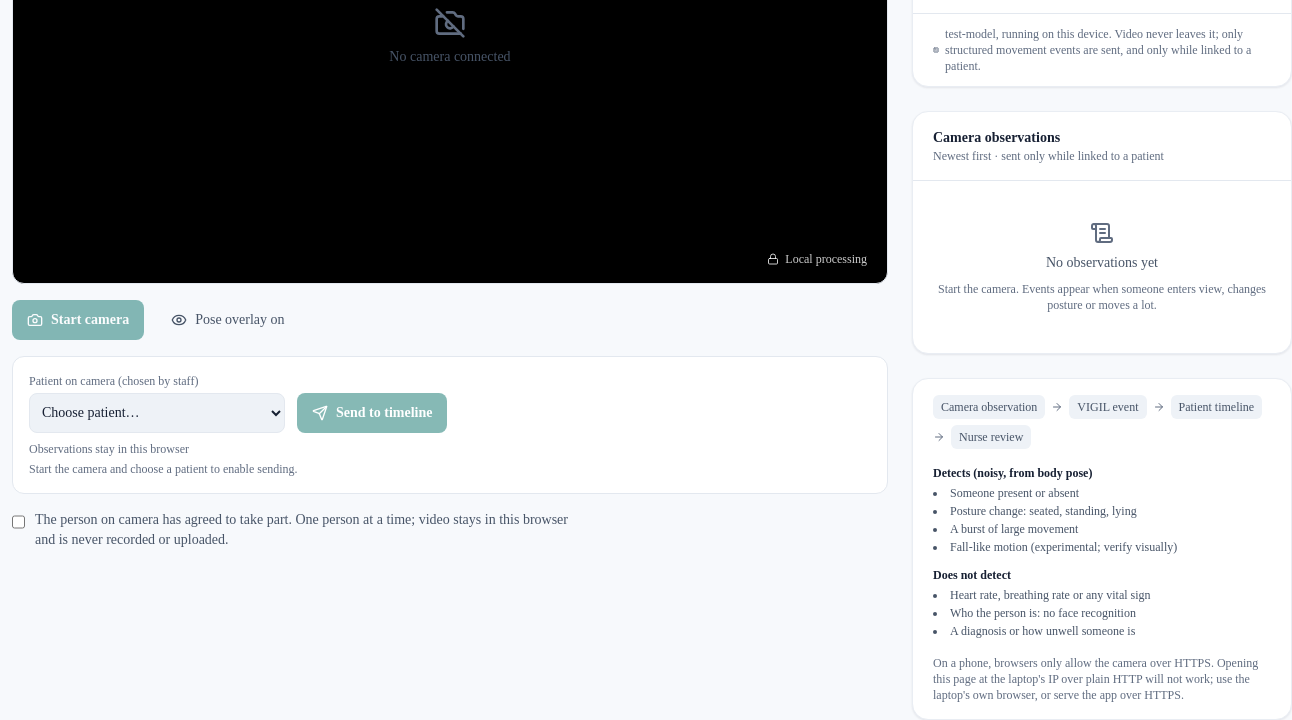
VIGIL Vision camera lifecycle › never requests the camera until consent is given and Start is pressed
(page scrolled)
Expected: the button "Start camera" is disabled, [12, 300, 144, 340]
Expected: the text "No camera connected" is shown, [389, 47, 511, 67]
Click the checkbox at (18, 522), box [12, 514, 25, 530]
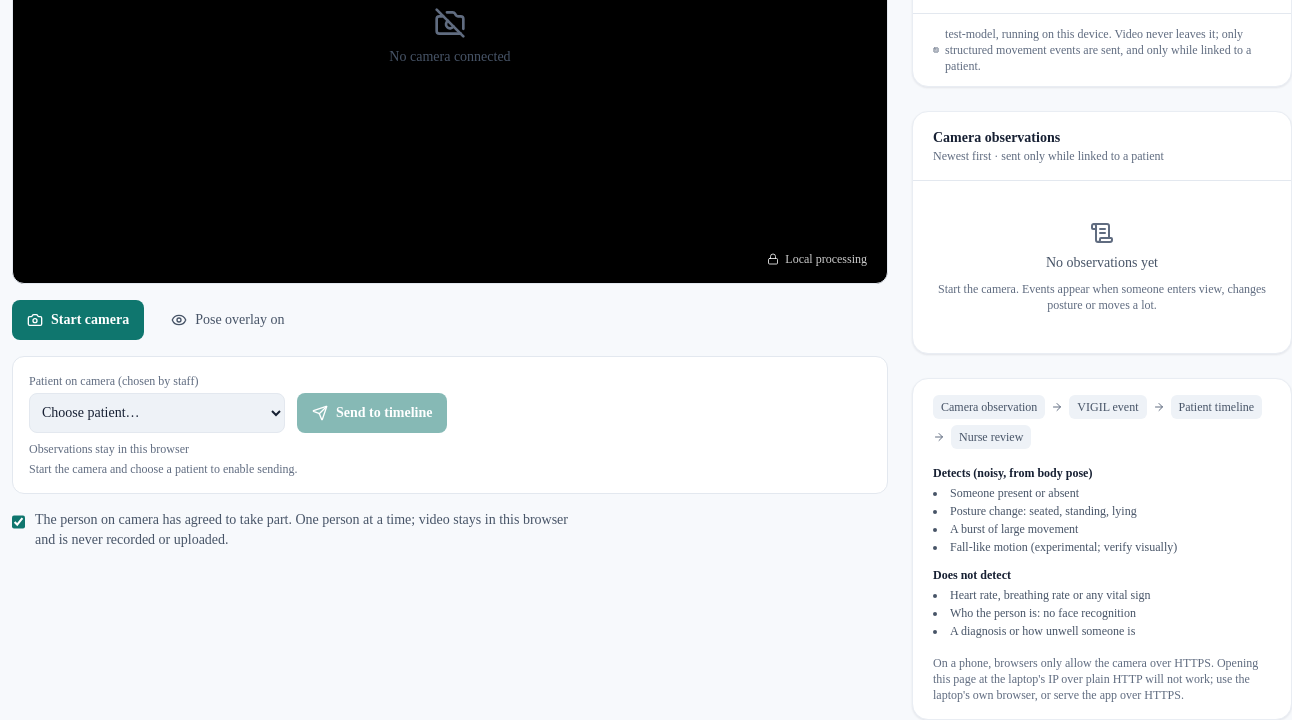
Result: the button "Start camera" is enabled at [12, 300, 144, 340]
